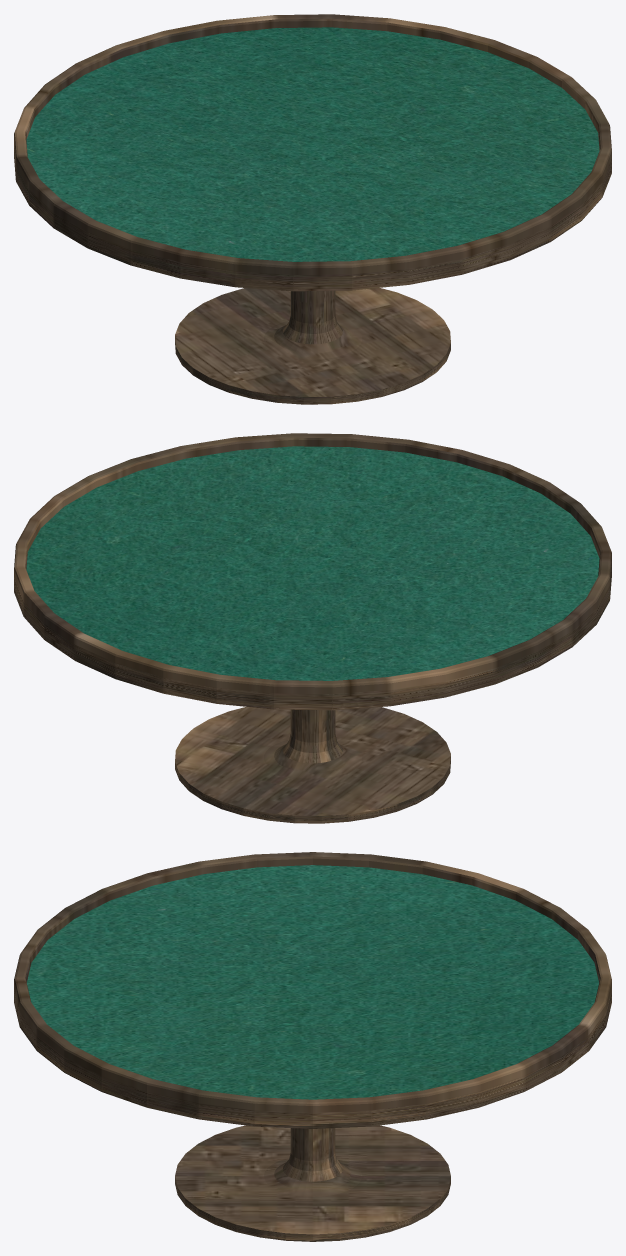
Rendered from mesa_poker.glb.
3 renders of one model, top to bottom at view 1: azimuth 30°, elevation 25°; view 2: azimuth 150°, elevation 25°; view 3: azimuth 270°, elevation 25°, orthographic.
Parts seen in each view (by area): view 1: Cylinder.006; view 2: Cylinder.006; view 3: Cylinder.006.
Boxes of the visible parts, box(x1,y1,x2,y2) form: Cylinder.006: box(14, 14, 611, 404); Cylinder.006: box(14, 433, 611, 823); Cylinder.006: box(14, 852, 611, 1241).
Bounding box in the file's own units: 2.39 × 0.91 × 2.39.
Materials: 2 (2 with a texture image).
